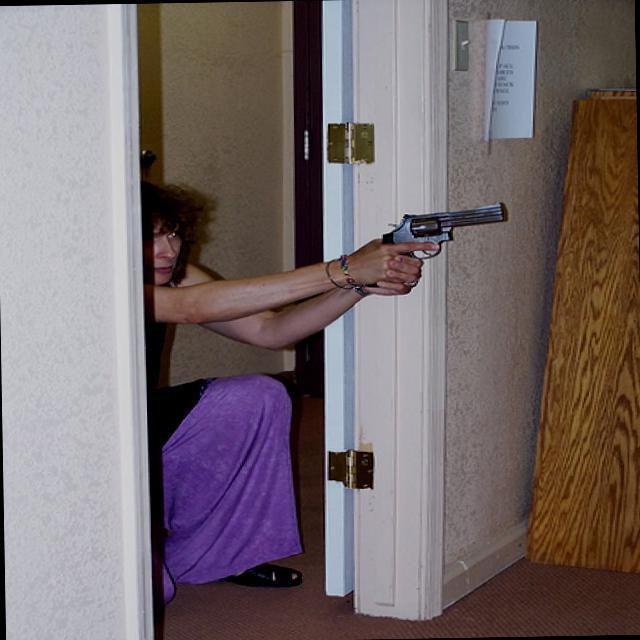handgun: (356, 192, 503, 285)
